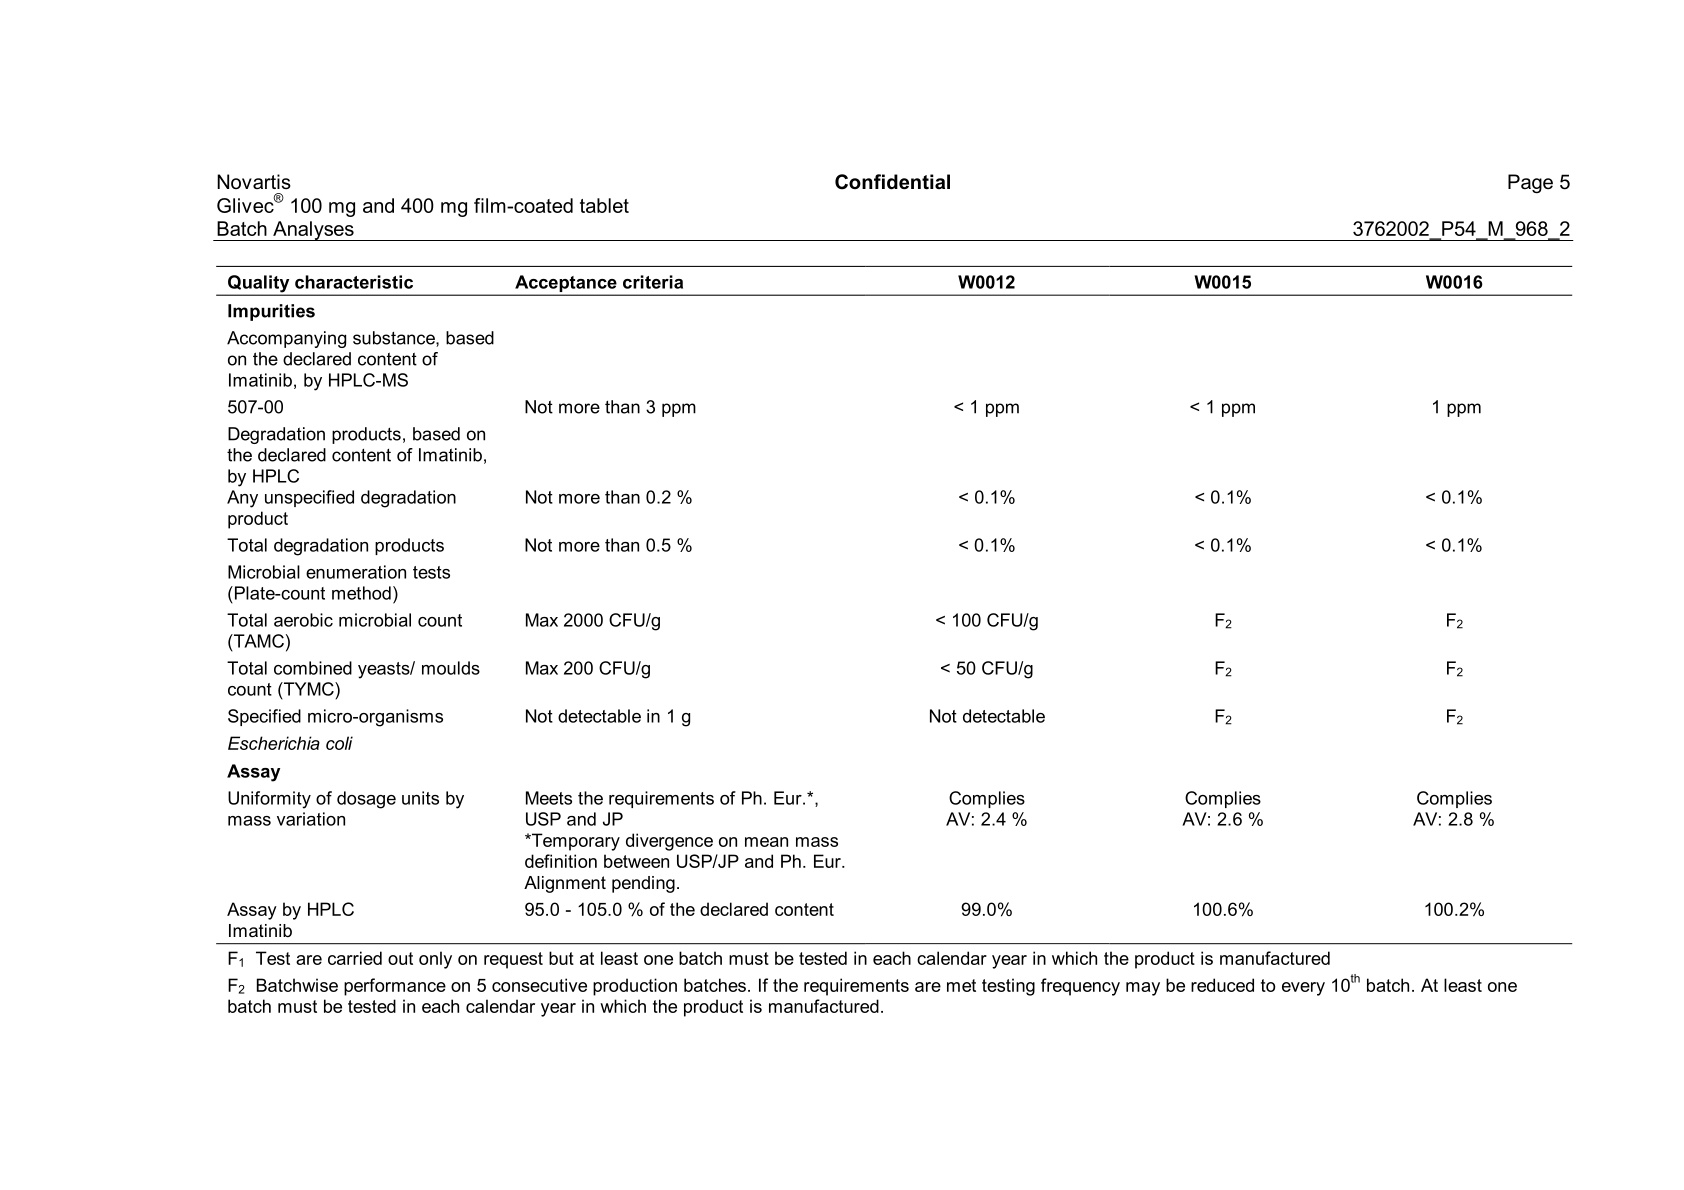partial_lined: (214, 264, 1575, 948)
